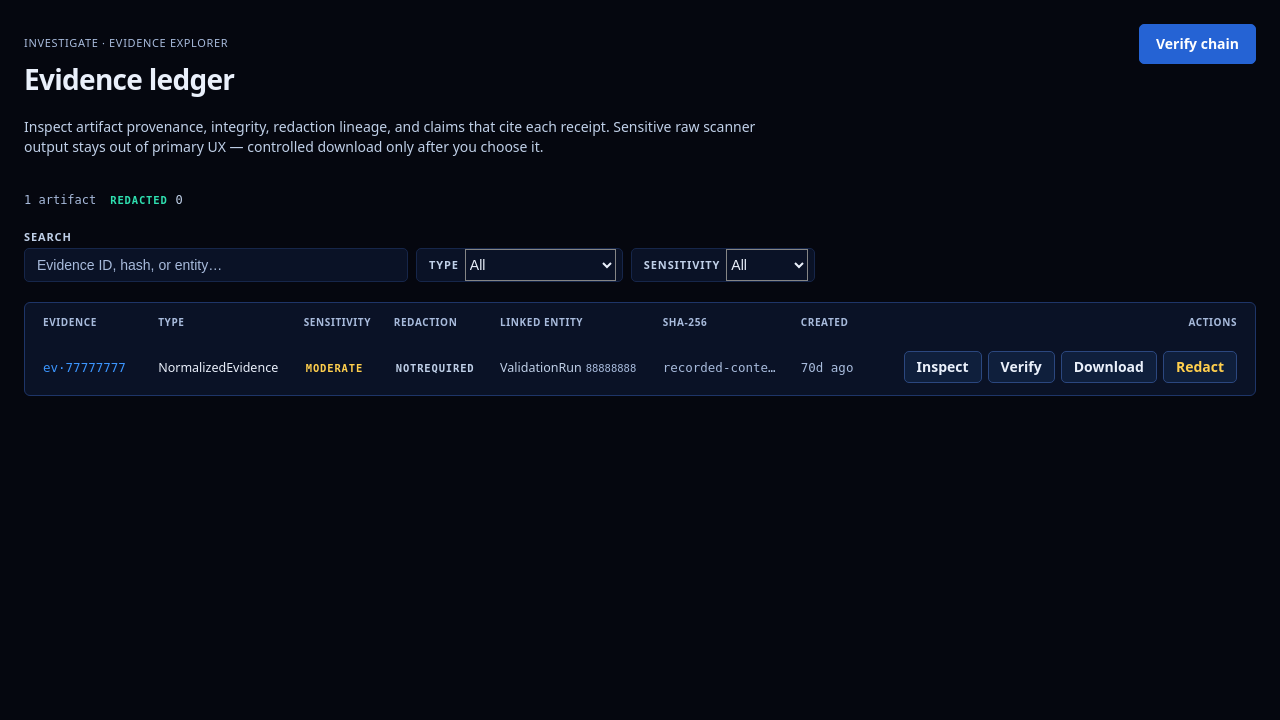
Test: EvidenceLedger › verifies the tenant chain and a single artifact with linkage detail
Click the button "Verify chain" at (1197, 44), box [1139,24,1256,64]
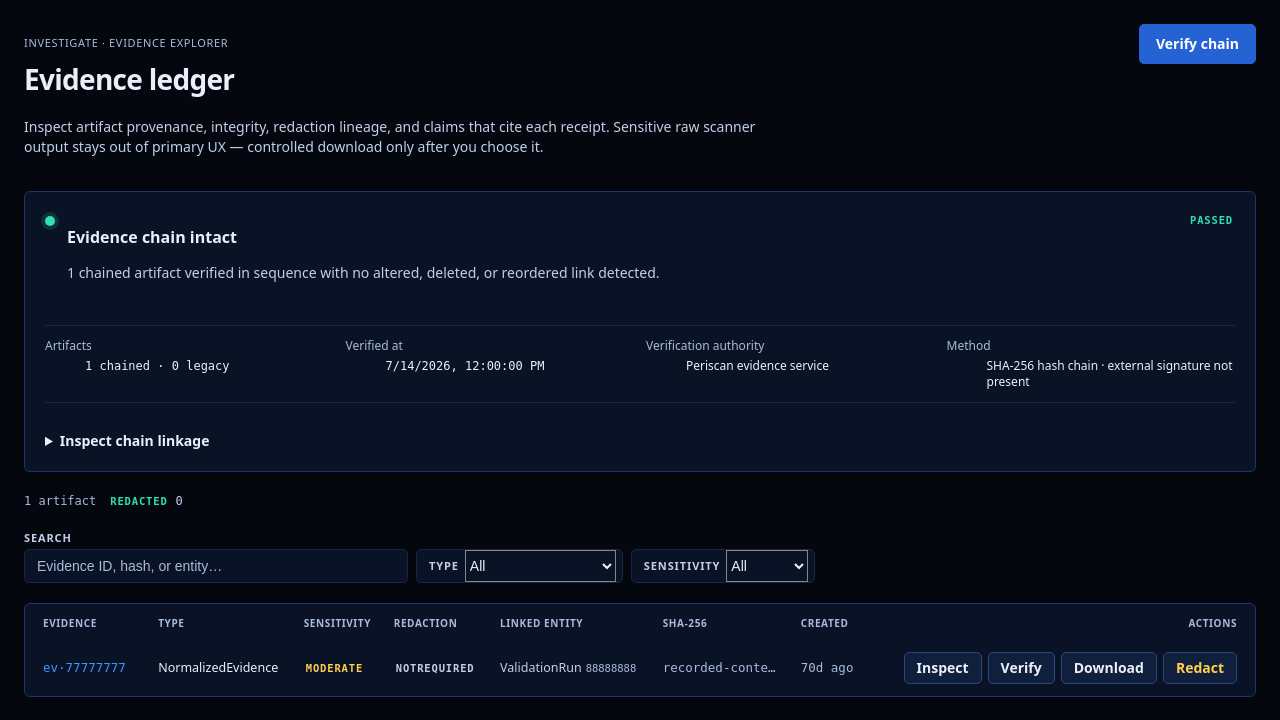
Expected: the heading "Evidence chain intact" is shown, [67,226,237,248]
Expected: the text "SHA-256 hash chain · external signature not present" is shown, [986,358,1235,390]
Click the button "Verify" at (1021, 668), box [988,652,1055,684]
(page scrolled)
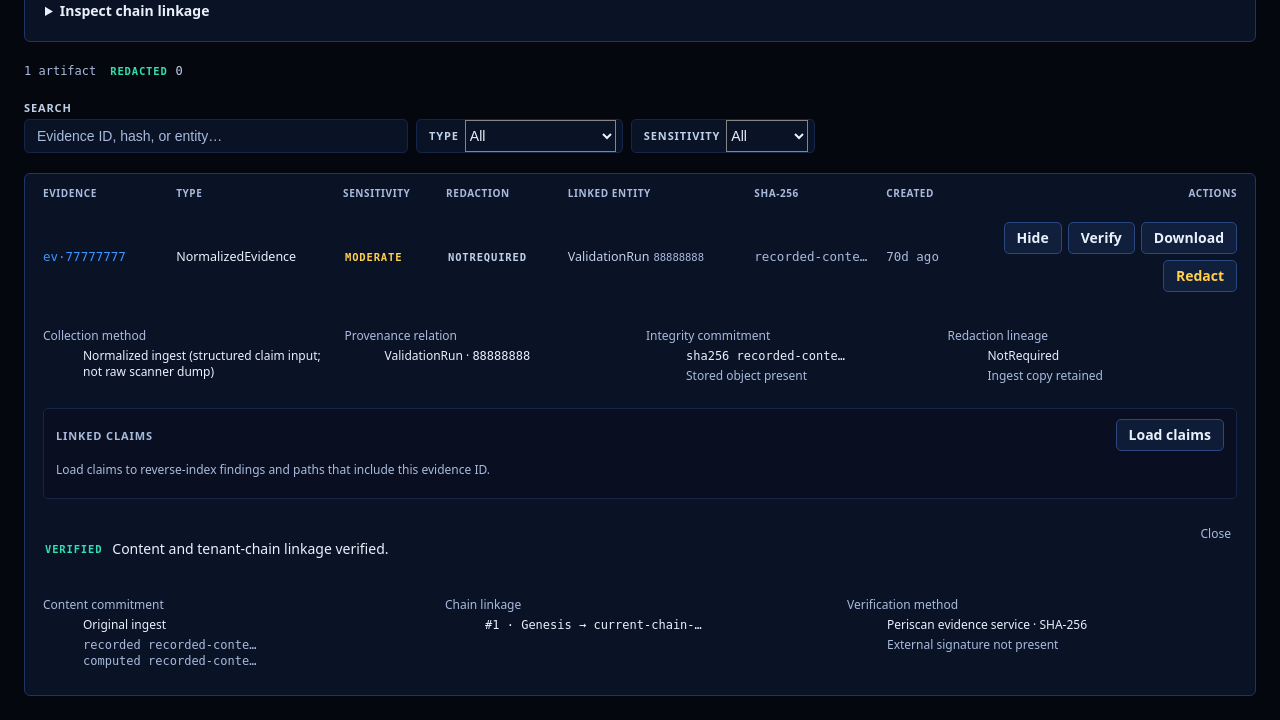
Expected: the message named "Evidence integrity Verified" is shown, [43,525,1237,681]
Expected: the text "Content and tenant-chain linkage verified." is shown, [112,539,389,559]
Expected: the text "#1 · Genesis → current-chain-…" is shown, [485,618,702,632]
